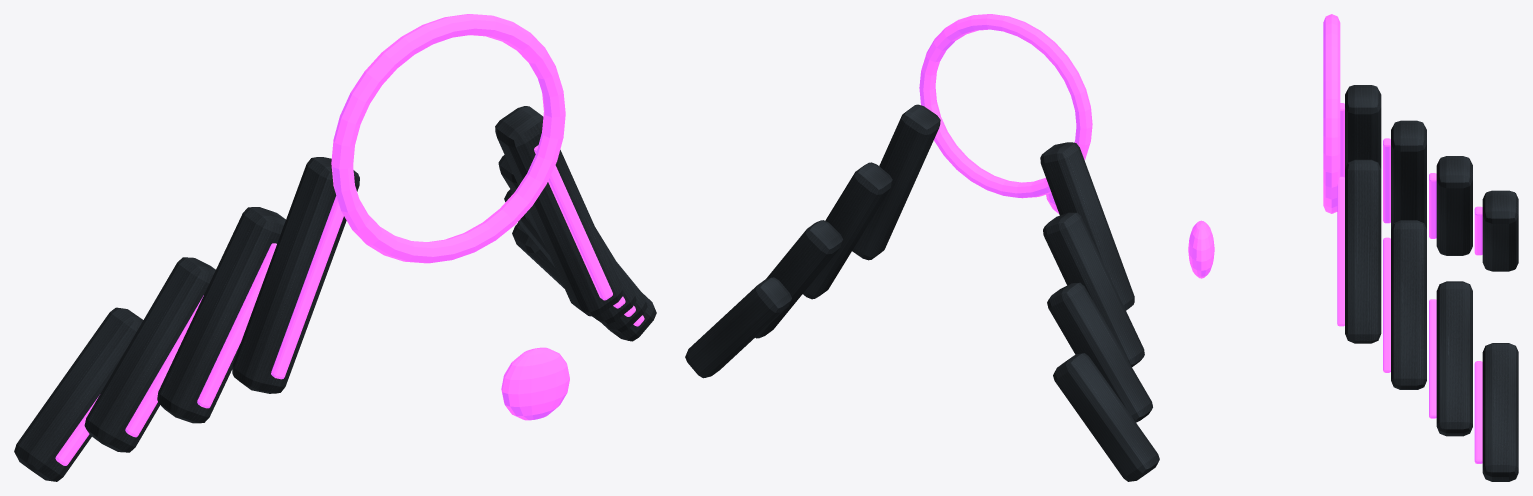
File: evolution_shadow.glb
3 views of the same model, side by side, from view 1: azimuth 30°, elevation 25°; view 2: azimuth 150°, elevation 25°; view 3: azimuth 270°, elevation 25° (orthographic). The views are drawn at different scales.
Visible parts, largest first — view 1: evolution_shadow; view 2: evolution_shadow; view 3: evolution_shadow.
Boxes of the visible parts, x1=… form: evolution_shadow: x1=14, y1=14, x2=656, y2=481; evolution_shadow: x1=685, y1=14, x2=1159, y2=481; evolution_shadow: x1=1188, y1=14, x2=1518, y2=481.
Size of the model in its own units: 2.25 by 1.61 by 1.37.
2 materials, 1 textured.
